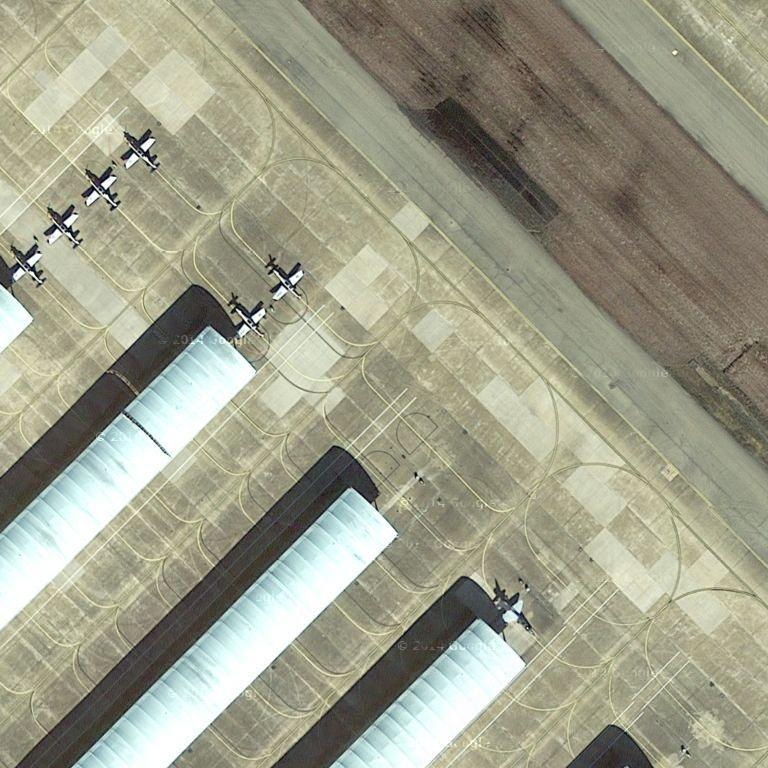plane: (488, 586, 538, 638), (4, 242, 50, 292), (263, 258, 310, 305), (224, 297, 273, 342), (41, 207, 90, 251), (117, 130, 165, 174), (81, 168, 125, 211)
